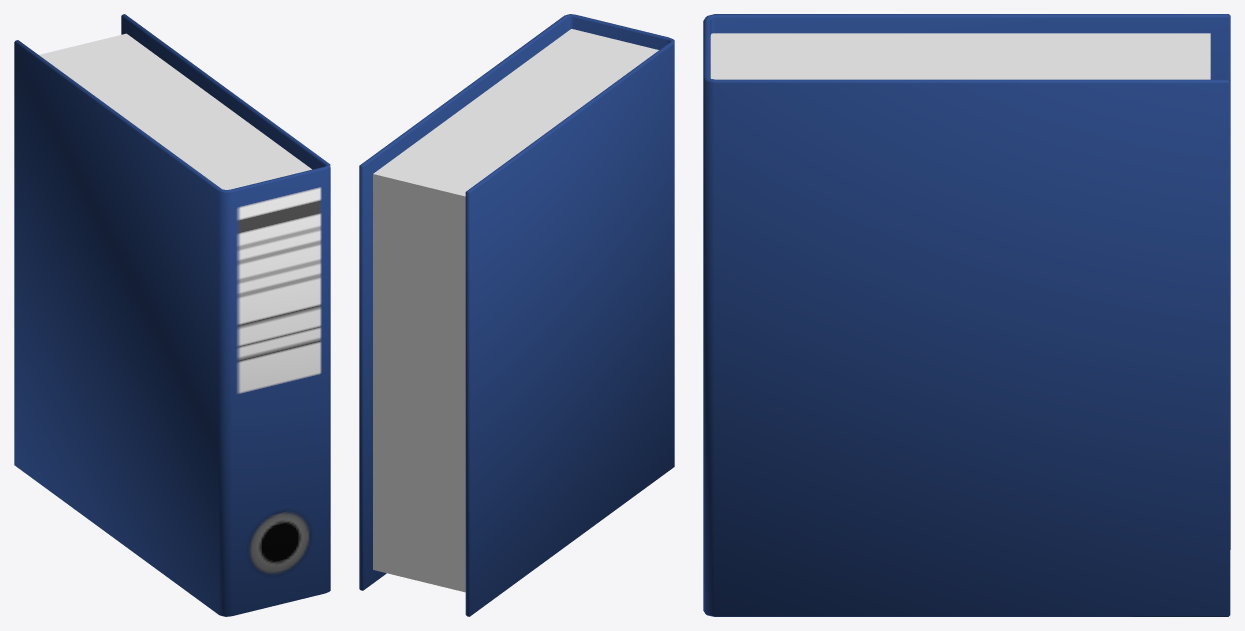
The model's file is office folder3.FBX.
The picture shows the model from 3 angles, left to right: view 1: azimuth 30°, elevation 25°; view 2: azimuth 150°, elevation 25°; view 3: azimuth 270°, elevation 25°; orthographic projection. The views are drawn at different scales.
Visible parts, largest first — view 1: office folder3; view 2: office folder3; view 3: office folder3.
Boxes of the visible parts, <box> form: office folder3: <box>14,14,330,616</box>; office folder3: <box>359,14,674,616</box>; office folder3: <box>703,14,1230,616</box>.
Size of the model in its own units: 2.88 by 9.36 by 10.5.
1 material, 1 textured.
